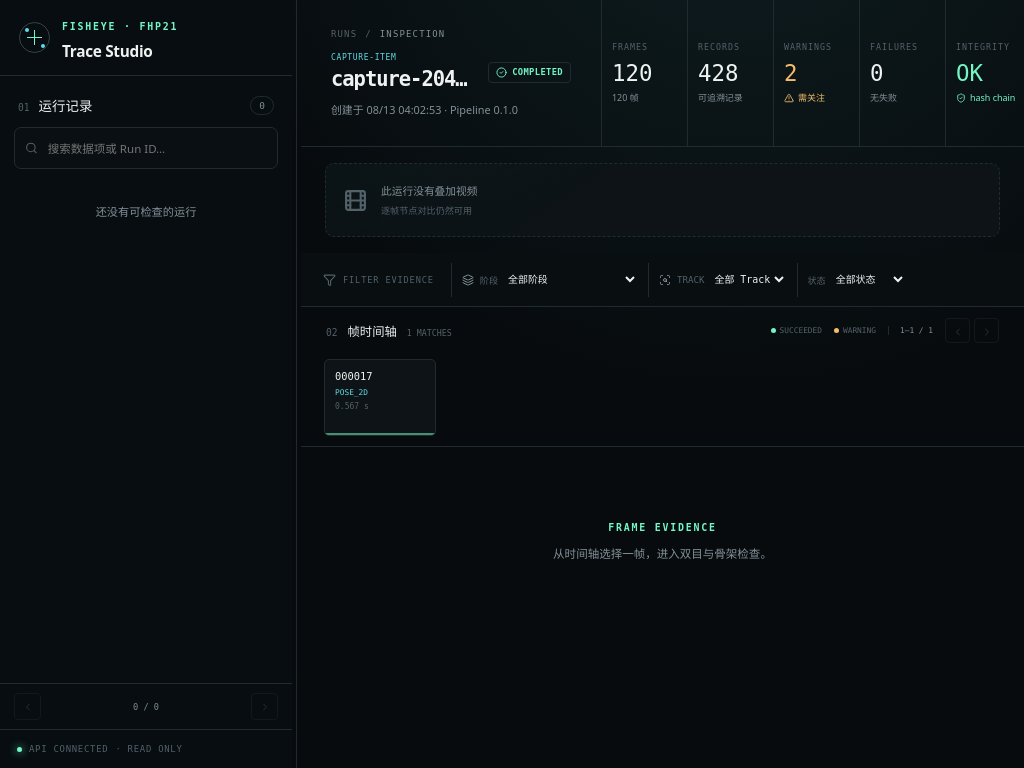
operator can filter the selected run by pipeline stage using URL-backed state
Expected: the heading "capture-204253" is shown, top-left (331, 67), bottom-right (475, 91)
Expected: the text "120 帧" is shown, top-left (612, 91), bottom-right (639, 104)
Select "RAW_FUSION" in the dropdown labelled "阶段" at [571, 280], box top-left (504, 273), bottom-right (638, 286)
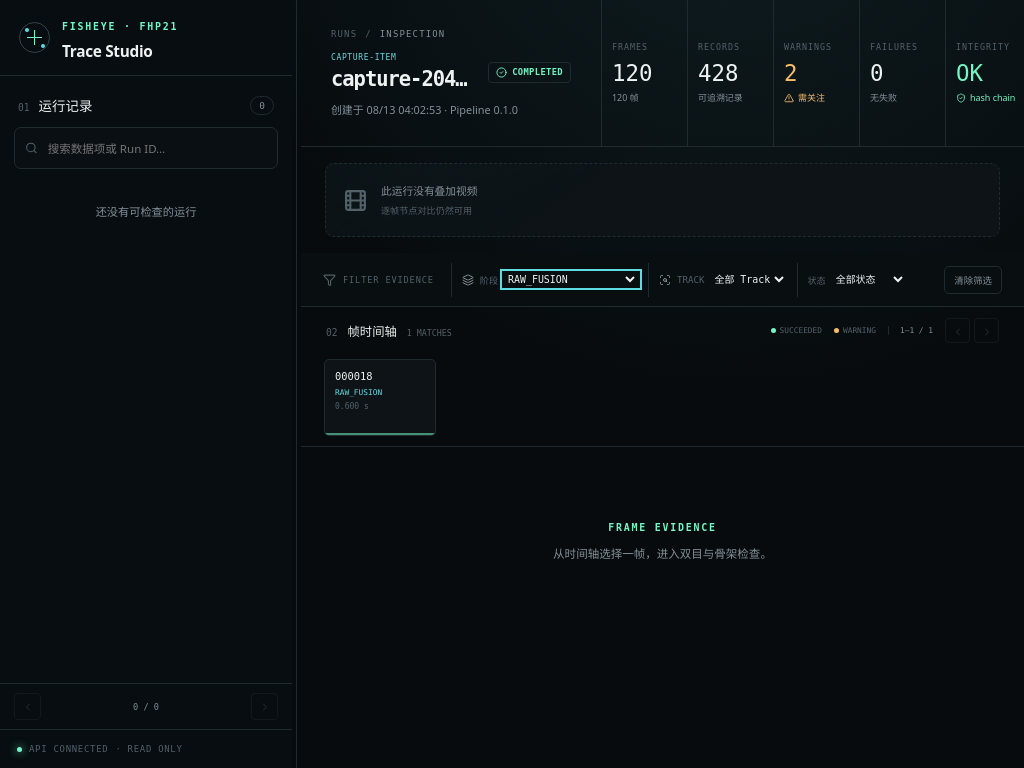
Now the button with aria-label "帧 18" is shown, box top-left (324, 359), bottom-right (436, 436)
